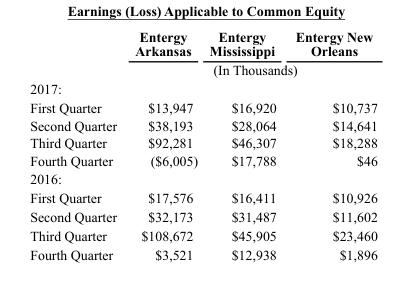table: (29, 29, 376, 261)
table column: (29, 29, 125, 261), (285, 29, 376, 261), (202, 29, 285, 261), (125, 29, 202, 261)
table column header: (29, 29, 376, 78)
table projected row header: (29, 78, 376, 97), (29, 169, 376, 187)
table row: (29, 29, 376, 60), (29, 78, 376, 97), (29, 97, 376, 116), (29, 187, 376, 206), (29, 206, 376, 225), (29, 225, 376, 244), (29, 60, 376, 78), (29, 133, 376, 151), (29, 151, 376, 169), (29, 169, 376, 187), (29, 116, 376, 133), (29, 244, 376, 261)
table spanning cell: (125, 60, 376, 78)
